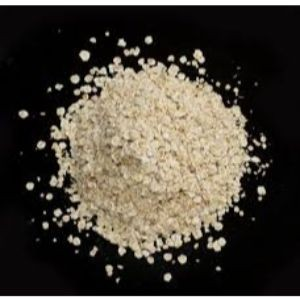oat_brain food: (65, 89, 221, 223)
